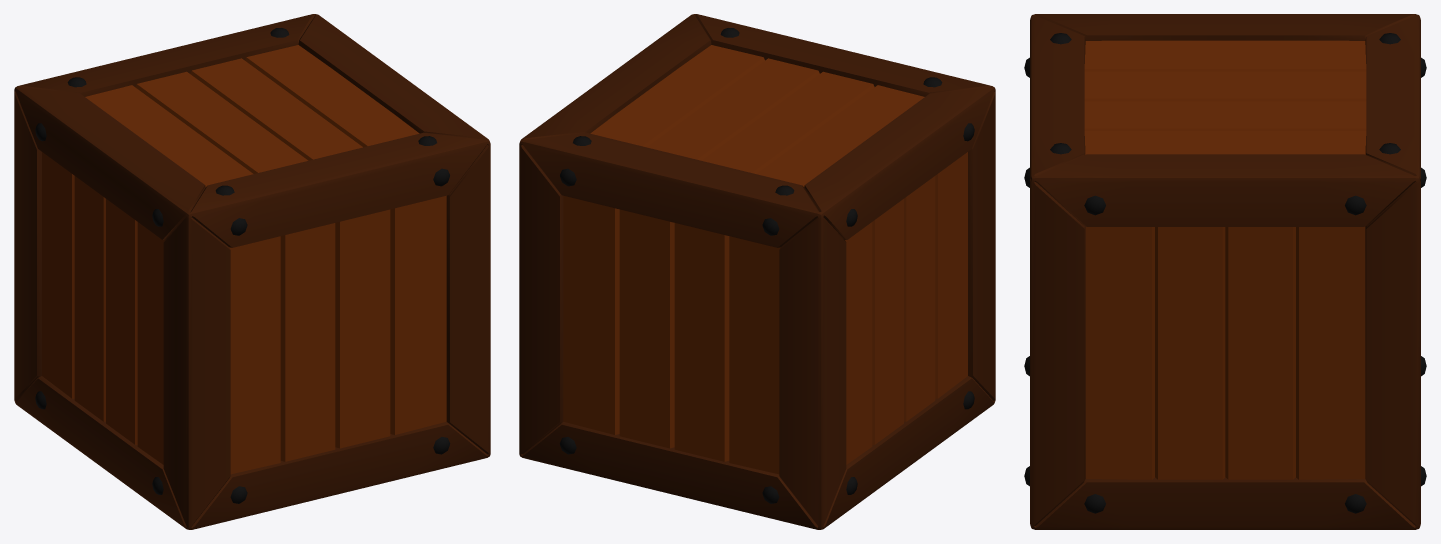
Rendered from Crate_2_v1.fbx.
3 renders of one model, left to right at view 1: azimuth 30°, elevation 25°; view 2: azimuth 150°, elevation 25°; view 3: azimuth 270°, elevation 25°, orthographic. The views are drawn at different scales.
Visible parts, largest first — view 1: Crate_2_High; view 2: Crate_2_High; view 3: Crate_2_High.
Boxes of the visible parts, x1,y1,x2,y2 form: Crate_2_High: [14, 14, 490, 529]; Crate_2_High: [519, 14, 995, 529]; Crate_2_High: [1024, 14, 1426, 529].
Size of the model in its own units: 185 by 185 by 185.
